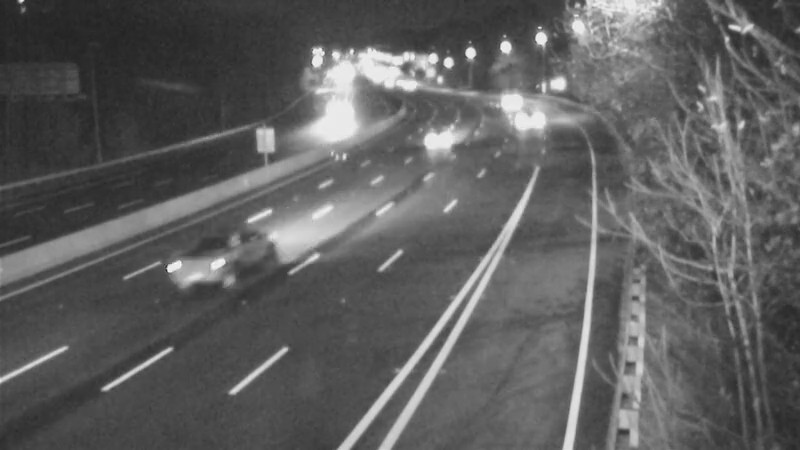vehicle: (170, 228, 250, 308), (472, 71, 522, 121), (494, 93, 544, 143), (412, 110, 462, 160), (312, 96, 362, 146)
